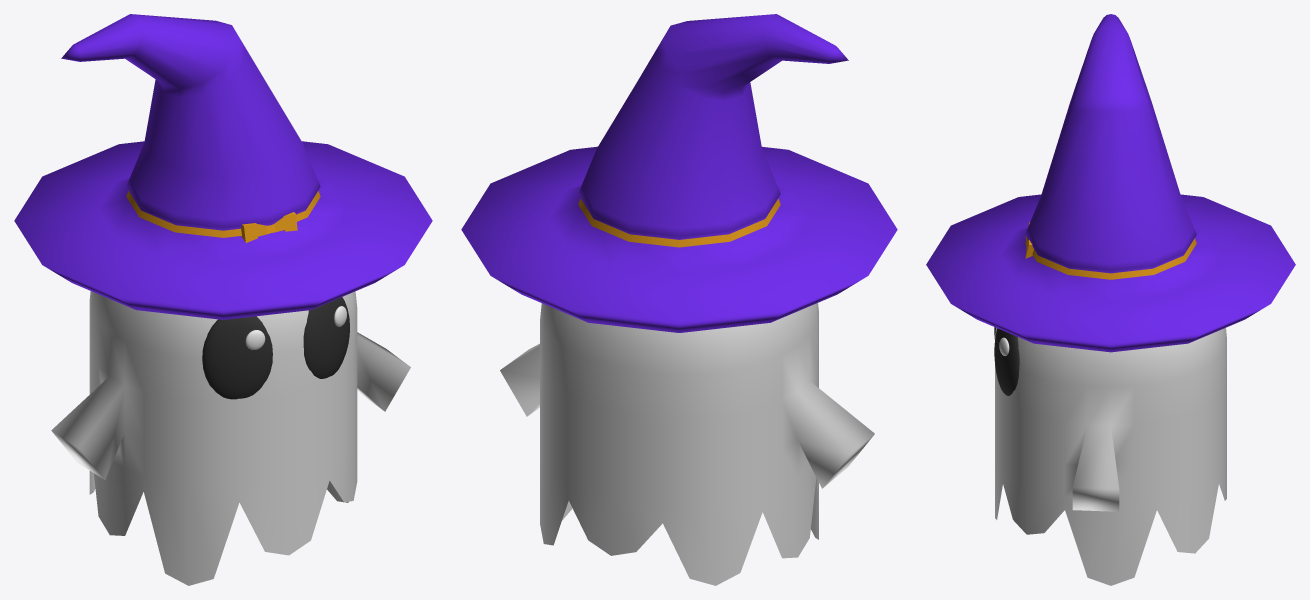
The model's file is dory.glb.
3 views of the same model, side by side, from view 1: azimuth 30°, elevation 25°; view 2: azimuth 150°, elevation 25°; view 3: azimuth 270°, elevation 25° (orthographic). The views are drawn at different scales.
Parts seen in each view (by area): view 1: hat, ghost, eyes, Cylinder.001, Plane; view 2: hat, ghost, Cylinder.001; view 3: hat, ghost, eyes, Cylinder.001.
Part boxes in pixels (x1,y1,x2,y2): hat: (14,14,432,319); ghost: (51,291,410,585); eyes: (202,297,349,399); Cylinder.001: (126,191,320,237); Plane: (241,212,297,242); hat: (461,14,897,332); ghost: (500,303,874,585); Cylinder.001: (578,198,780,247); hat: (926,14,1295,352); ghost: (995,328,1226,585); eyes: (994,327,1019,395); Cylinder.001: (1025,238,1196,279).
Bounding box in the file's own units: 2.68 × 3.79 × 2.68.
